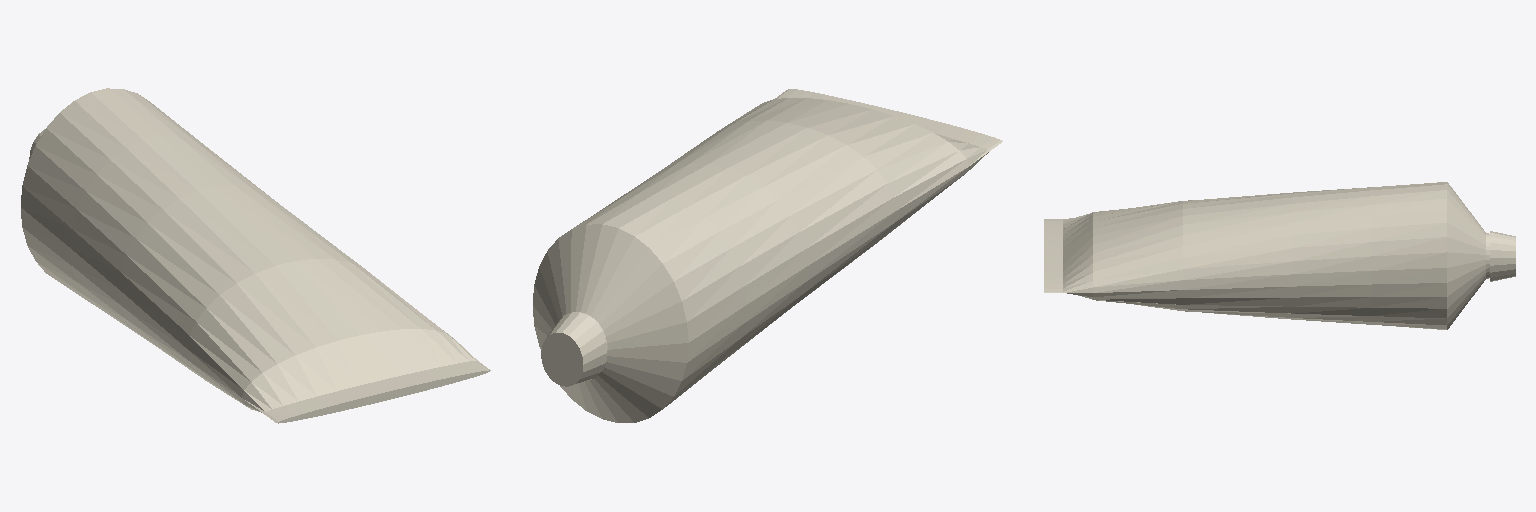
URDF robot description (object):
<?xml version="1.0"?>
<robot name="object">
  <link name="object">
    <visual>
      <origin xyz="0.0 0.0 0.0" rpy="0 0 1.5707963"/>
      <geometry>
        <mesh filename="toothpaste.stl" scale="0.7 1.0 1.2"/>
      </geometry>
      <material name="auto_color">
        <color rgba="0.86 0.84 0.78 1.0"/>
      </material>
    </visual>
    <collision>
      <origin xyz="0.0 0.0 0.0" rpy="0 0 1.5707963"/>
      <geometry>
        <mesh filename="toothpaste.stl" scale="0.7 1.0 1.2"/>
      </geometry>
    </collision>
  </link>
</robot>

--- Render facts (derived) ---
3 views of the same robot in one strip: view 1: azimuth 30°, elevation 25°; view 2: azimuth 150°, elevation 25°; view 3: azimuth 270°, elevation 25° (orthographic).
Robot: object — 1 links, 0 joints (none); root link object; default pose: every joint at zero.
Links seen in each view (by area): view 1: object; view 2: object; view 3: object.
Link boxes in pixels (x1=…): object: x1=21, y1=88, x2=490, y2=423; object: x1=533, y1=89, x2=1002, y2=422; object: x1=1044, y1=182, x2=1515, y2=329.
Bounding box of the posed robot: 0.0527 × 0.1416 × 0.0457 m (x, y, z).
Meshes: 1 distinct files referenced, 1 mesh visuals loaded (1 binary STL).
